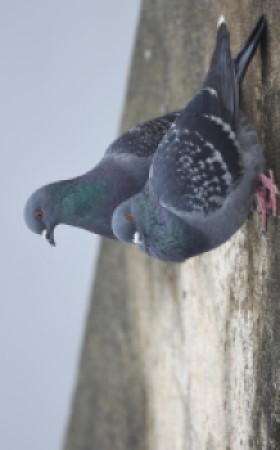pigeon: (107, 10, 279, 267), (18, 171, 106, 250)
